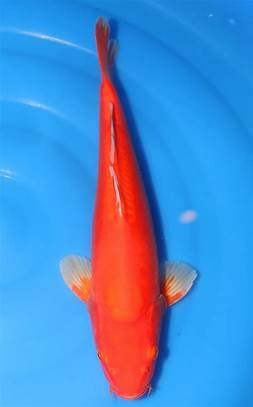red: (59, 18, 199, 400)
